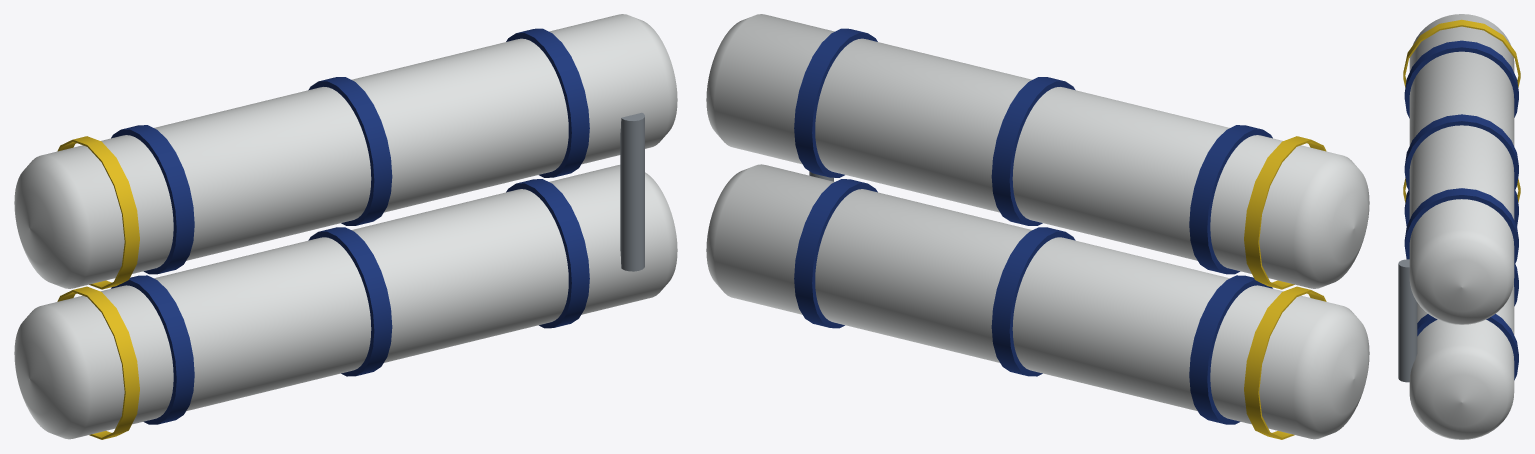
The model's file is l4_water.obj.
The picture shows the model from 3 angles, left to right: view 1: azimuth 30°, elevation 25°; view 2: azimuth 150°, elevation 25°; view 3: azimuth 270°, elevation 25°; orthographic projection. The views are drawn at different scales.
Parts seen in each view (by area): view 1: l4_water; view 2: l4_water; view 3: l4_water.
Part boxes in pixels (bbox=[...]): l4_water: bbox=[14, 14, 677, 439]; l4_water: bbox=[706, 14, 1369, 439]; l4_water: bbox=[1398, 14, 1520, 439].
Bounding box in the file's own units: 1.76 × 0.77 × 0.385.
